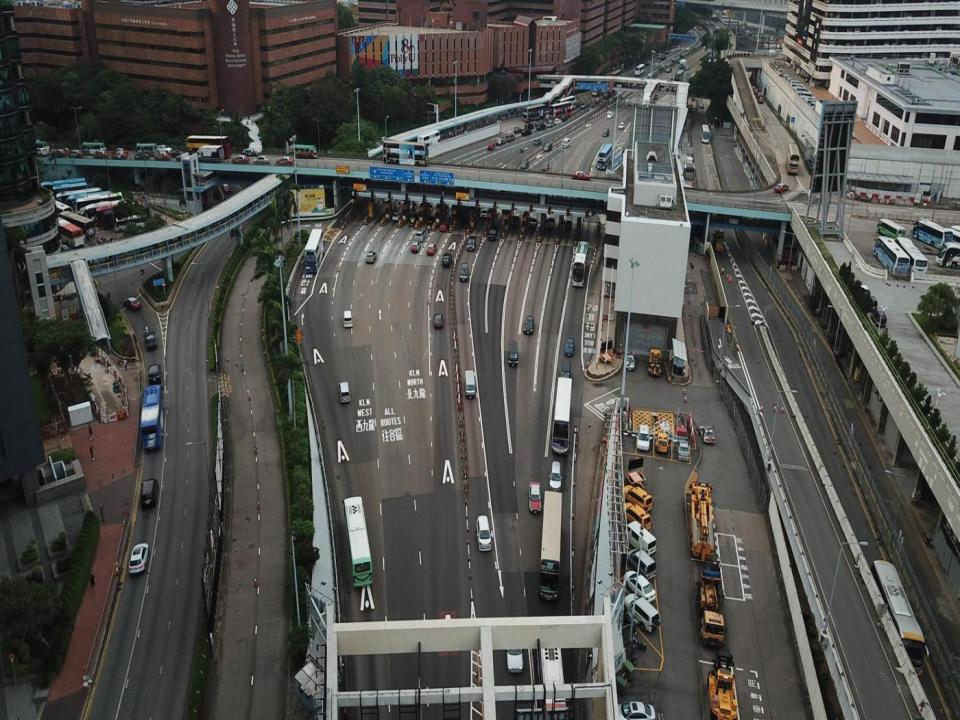bus: (867, 559, 929, 678), (342, 496, 373, 588), (537, 628, 566, 719), (539, 490, 562, 602), (551, 376, 572, 455), (63, 188, 113, 221), (140, 385, 165, 450), (872, 236, 910, 277), (891, 236, 928, 278), (54, 186, 102, 216), (39, 178, 86, 208), (72, 192, 124, 219), (911, 218, 953, 250), (103, 204, 151, 230), (96, 201, 143, 226), (382, 140, 429, 165), (48, 182, 88, 211), (185, 135, 231, 159), (84, 199, 126, 225), (58, 210, 95, 238), (52, 217, 84, 246), (44, 198, 74, 228), (305, 229, 324, 274), (571, 240, 589, 287), (934, 226, 960, 256), (934, 241, 960, 269), (876, 218, 905, 243), (114, 212, 149, 231), (417, 130, 440, 151), (522, 102, 546, 122), (786, 142, 799, 176), (549, 100, 572, 119), (597, 143, 612, 169), (556, 95, 576, 112), (80, 142, 106, 155), (294, 144, 318, 158), (135, 142, 157, 156), (949, 225, 960, 250), (27, 140, 49, 152), (592, 80, 608, 95), (700, 124, 711, 143), (602, 85, 615, 99), (610, 69, 622, 84), (634, 63, 646, 75), (674, 69, 683, 85)
car: (624, 570, 656, 603), (506, 627, 523, 672), (615, 701, 656, 719), (129, 543, 149, 573), (528, 481, 542, 514), (677, 440, 690, 460), (700, 426, 715, 443), (143, 330, 156, 349), (624, 352, 636, 371), (123, 297, 140, 310), (523, 316, 534, 334), (154, 150, 170, 162), (572, 171, 590, 181), (564, 338, 574, 356), (60, 244, 71, 259), (774, 183, 789, 194), (433, 313, 444, 328), (156, 144, 172, 154), (111, 148, 128, 157), (241, 148, 258, 157), (807, 98, 822, 108), (232, 156, 250, 164), (276, 158, 294, 166), (378, 135, 389, 148), (410, 240, 421, 253), (324, 148, 338, 158), (176, 152, 193, 160), (253, 156, 270, 164), (366, 251, 376, 264), (111, 151, 127, 159), (426, 243, 437, 254), (805, 96, 818, 105), (52, 149, 66, 157), (94, 150, 108, 158), (480, 208, 488, 221), (440, 221, 449, 232), (68, 150, 82, 157), (530, 216, 538, 228), (411, 212, 419, 223), (170, 150, 184, 156), (392, 211, 401, 220), (809, 79, 822, 85), (495, 138, 506, 145), (426, 216, 435, 224), (223, 183, 230, 193), (542, 162, 549, 171), (580, 102, 588, 109), (533, 138, 541, 145), (757, 96, 764, 103), (606, 112, 613, 119), (561, 115, 568, 122), (756, 91, 762, 99), (618, 122, 624, 130), (488, 142, 494, 150), (554, 118, 562, 124), (750, 85, 756, 92), (594, 98, 601, 104), (515, 127, 522, 133), (699, 101, 704, 108), (754, 89, 759, 95), (629, 100, 634, 106), (661, 55, 666, 60), (691, 25, 697, 29), (667, 77, 673, 81), (710, 21, 714, 26), (685, 65, 689, 70), (666, 68, 671, 72), (672, 58, 677, 62), (646, 61, 650, 66), (665, 50, 669, 54), (706, 21, 709, 26), (685, 47, 690, 50), (700, 16, 702, 22), (716, 26, 720, 29), (698, 26, 702, 29)
truck: (696, 561, 725, 647), (688, 481, 714, 562), (196, 145, 224, 164), (649, 349, 663, 376), (712, 229, 725, 252), (679, 60, 686, 68)
van: (623, 593, 660, 632), (625, 521, 656, 558), (621, 484, 653, 514), (627, 548, 656, 580), (622, 502, 652, 532), (476, 515, 492, 551), (140, 478, 158, 508), (636, 424, 651, 451), (549, 461, 562, 492), (464, 370, 476, 399), (559, 359, 572, 385), (855, 284, 870, 304), (655, 431, 668, 454), (870, 310, 887, 327), (861, 295, 877, 313), (147, 364, 161, 384), (338, 381, 350, 403), (508, 340, 518, 366), (800, 90, 816, 102), (459, 262, 468, 282), (134, 149, 151, 159), (810, 102, 826, 112), (415, 228, 426, 242), (343, 310, 352, 327), (488, 224, 497, 241), (467, 236, 476, 251), (795, 87, 811, 95), (33, 148, 47, 157), (442, 253, 451, 267), (512, 213, 521, 227), (789, 80, 803, 88), (790, 84, 804, 92), (548, 212, 555, 227), (564, 218, 572, 230), (506, 133, 516, 142), (543, 142, 552, 152), (562, 137, 570, 148), (524, 122, 534, 130), (536, 122, 546, 130), (520, 159, 528, 169), (521, 128, 532, 135), (772, 66, 780, 73), (775, 68, 782, 76), (602, 128, 609, 136), (548, 121, 556, 127), (676, 45, 681, 50), (657, 53, 662, 58)
